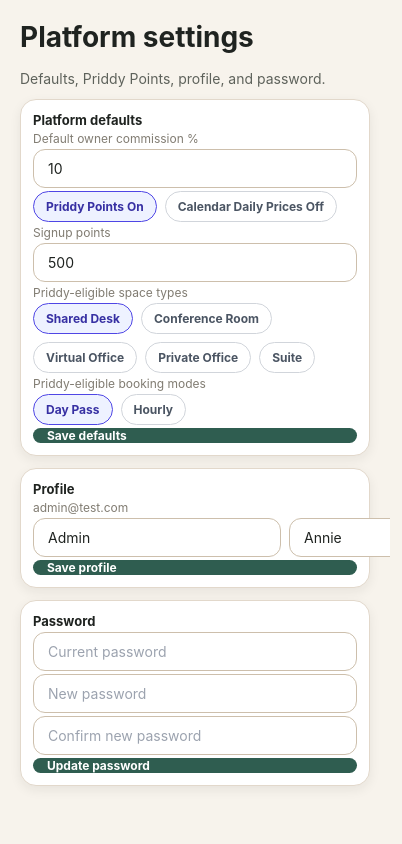
Test: AdminSettingsScreen › saves platform defaults with web's payload
Replace the text in the field named "Default commission" with "12": [195, 168] box left=33, top=149, right=357, bottom=188
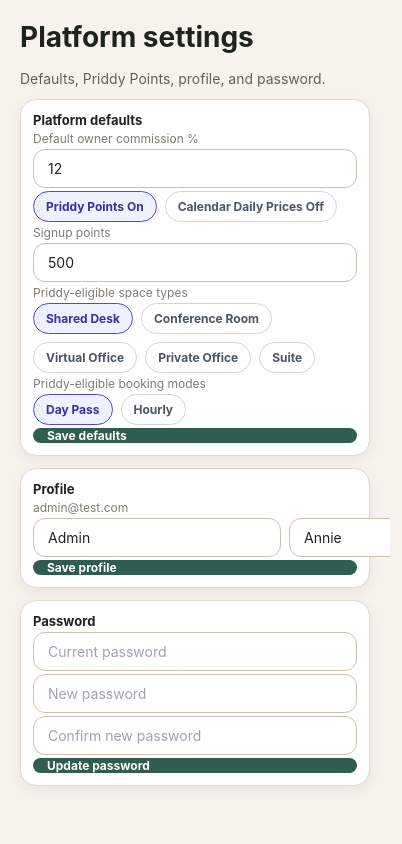
Click the button with aria-label "Priddy type suite": [287, 358] box left=259, top=342, right=315, bottom=373
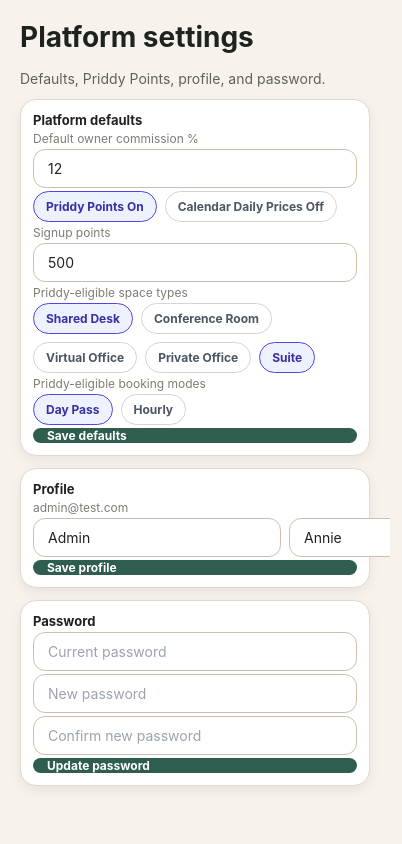
Click the button with aria-label "Save platform defaults": [87, 436] box left=33, top=428, right=357, bottom=443
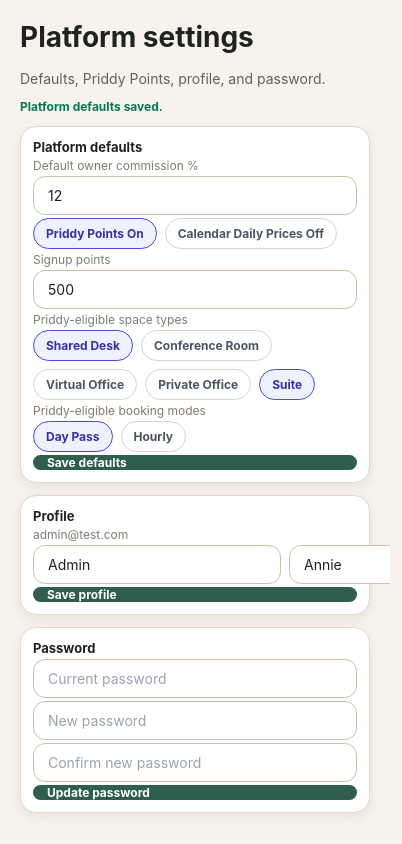
Result: the text "Platform defaults saved." is shown at left=20, top=99, right=163, bottom=114
